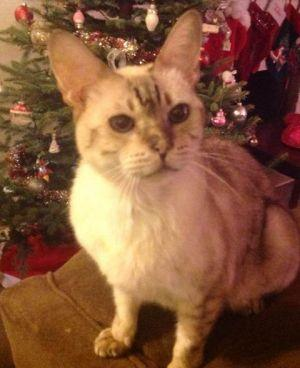bengal: (38, 10, 216, 199)
